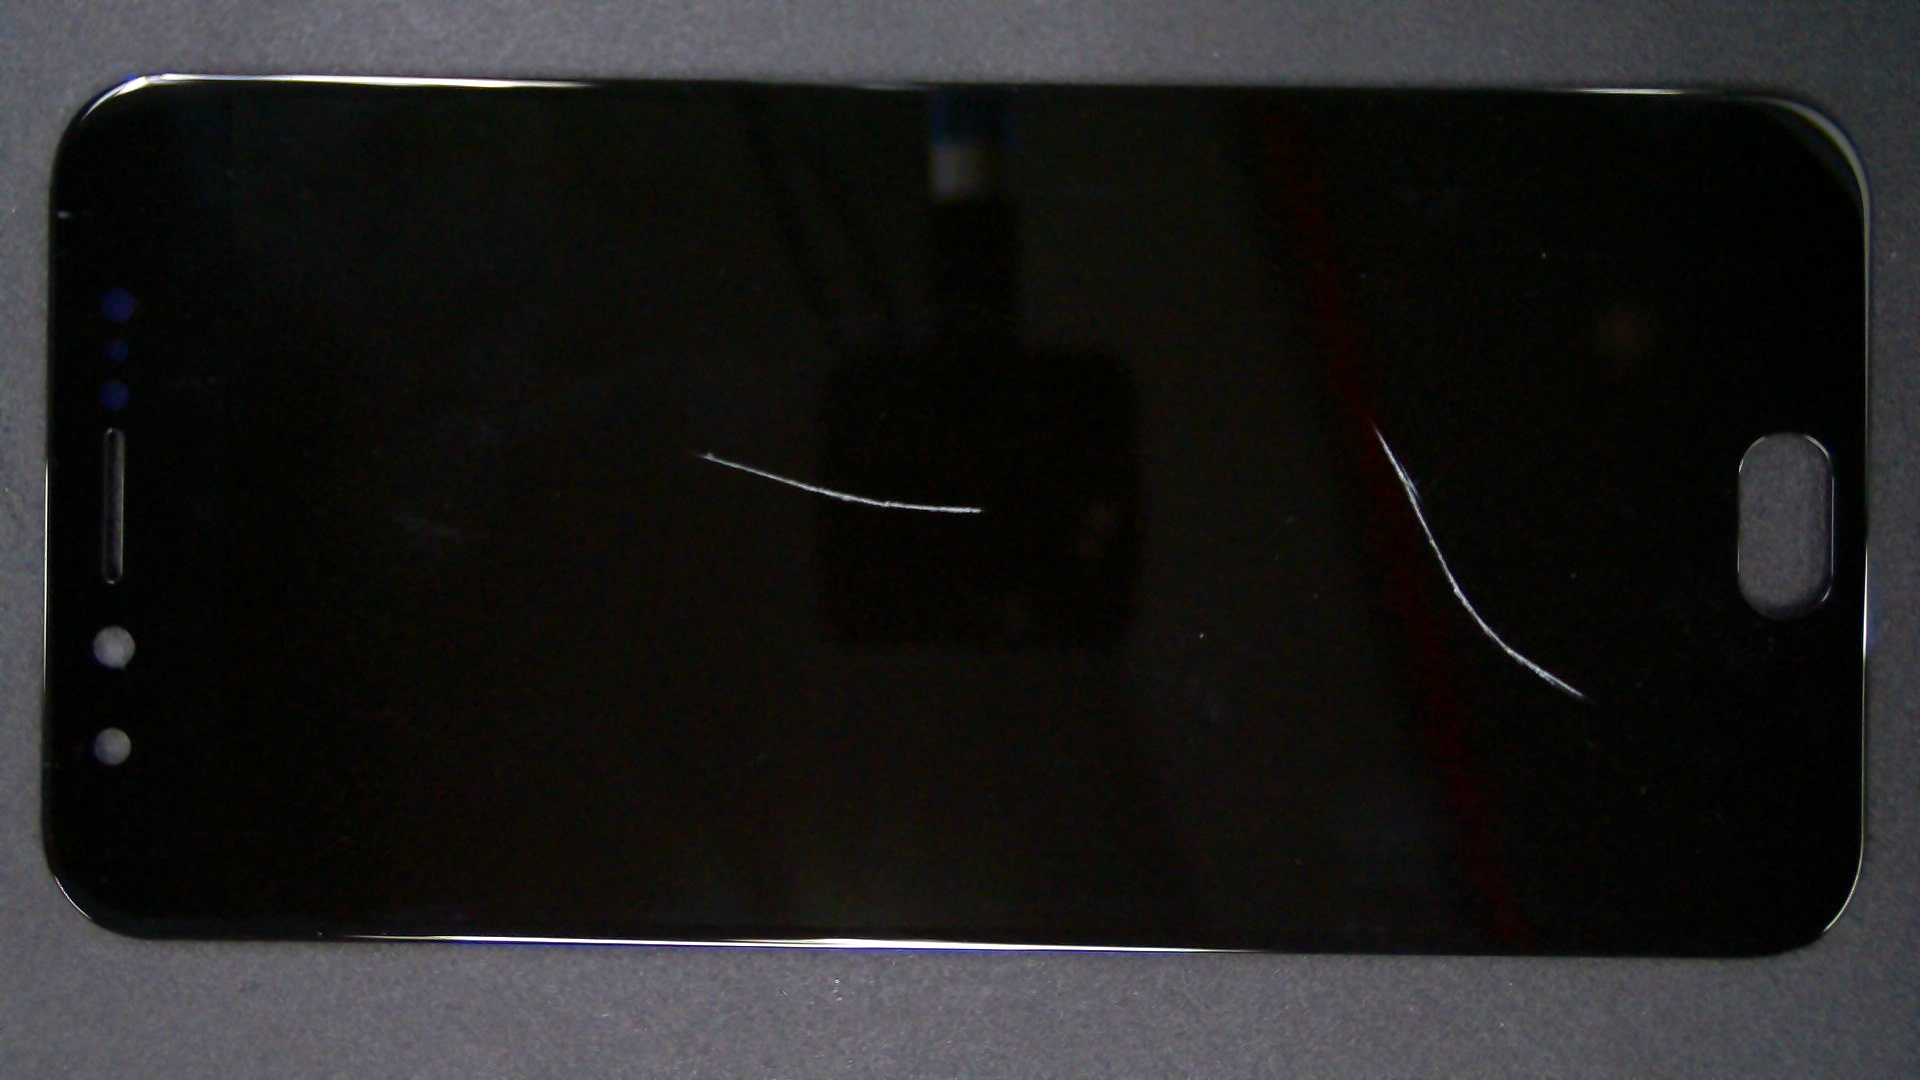oil: (687, 212, 1920, 640), (356, 225, 1064, 676)
